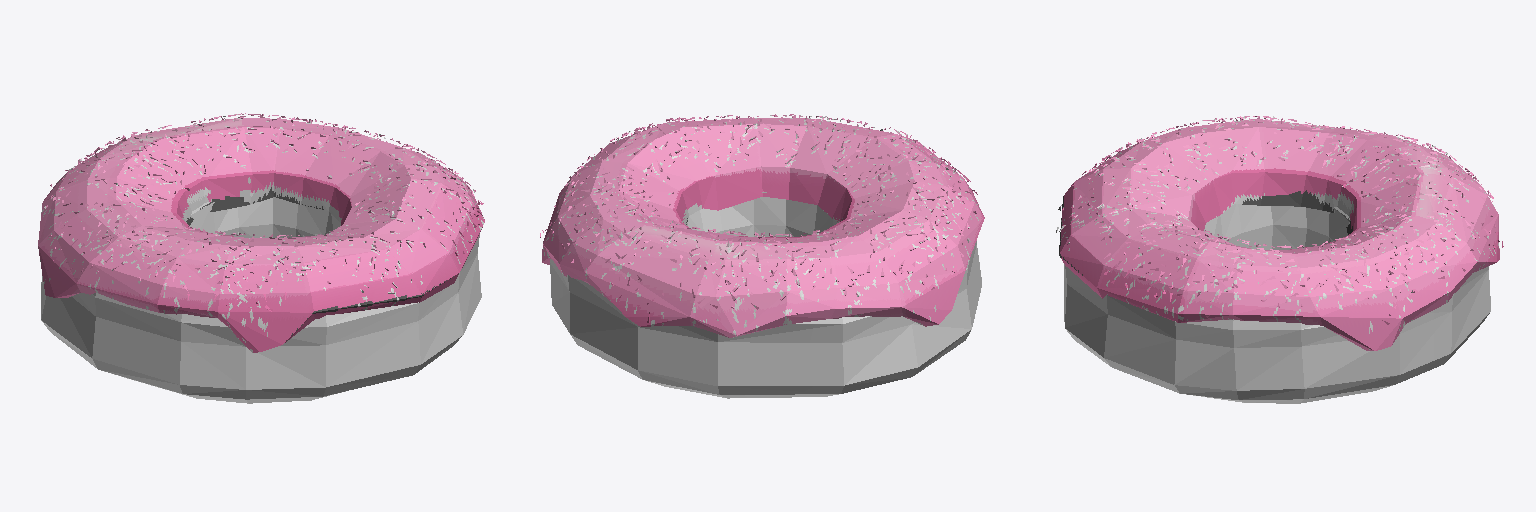
3 renders of one model, left to right at view 1: azimuth 30°, elevation 25°; view 2: azimuth 150°, elevation 25°; view 3: azimuth 270°, elevation 25°, orthographic.
Visible parts, largest first — view 1: donut_Mesh; view 2: donut_Mesh; view 3: donut_Mesh.
Part boxes in pixels (left/top/right/bottom): donut_Mesh: left=38, top=113, right=484, bottom=403; donut_Mesh: left=540, top=114, right=984, bottom=398; donut_Mesh: left=1056, top=116, right=1503, bottom=403.
Bounding box in the file's own units: 4.05 × 1.52 × 4.08.
Materials: 1 (1 with a texture image).